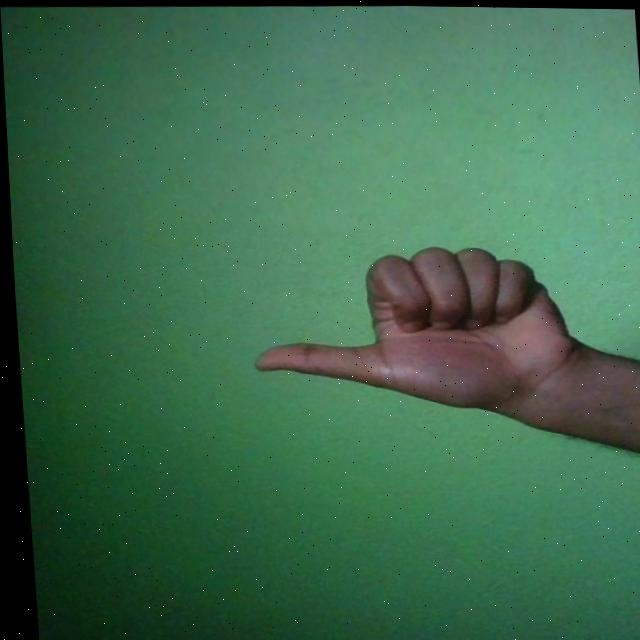Good Job: (243, 239, 585, 413)
